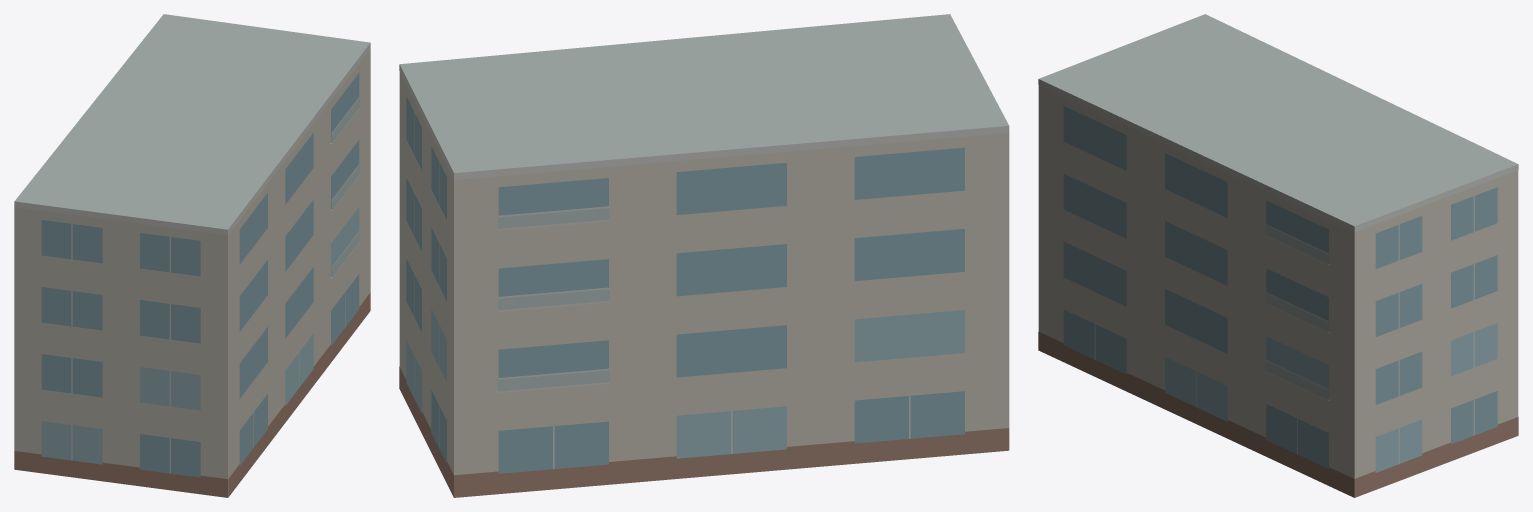
The model's file is survey-upis-32629882.glb.
The picture shows the model from 3 angles, left to right: view 1: azimuth 30°, elevation 25°; view 2: azimuth 150°, elevation 25°; view 3: azimuth 270°, elevation 25°; orthographic projection. The views are drawn at different scales.
Parts seen in each view (by area): view 1: survey-upis-32629882.tmp; view 2: survey-upis-32629882.tmp; view 3: survey-upis-32629882.tmp.
Boxes of the visible parts, x1,y1,x2,y2 form: survey-upis-32629882.tmp: (14, 14, 370, 497); survey-upis-32629882.tmp: (399, 14, 1009, 497); survey-upis-32629882.tmp: (1038, 14, 1518, 497).
Size of the model in its own units: 19.3 by 11.5 by 18.43.
